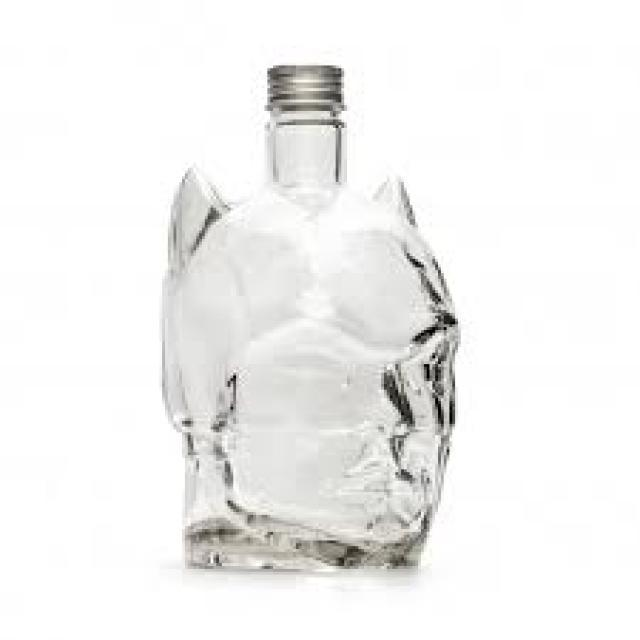Glass: (157, 34, 489, 615)
